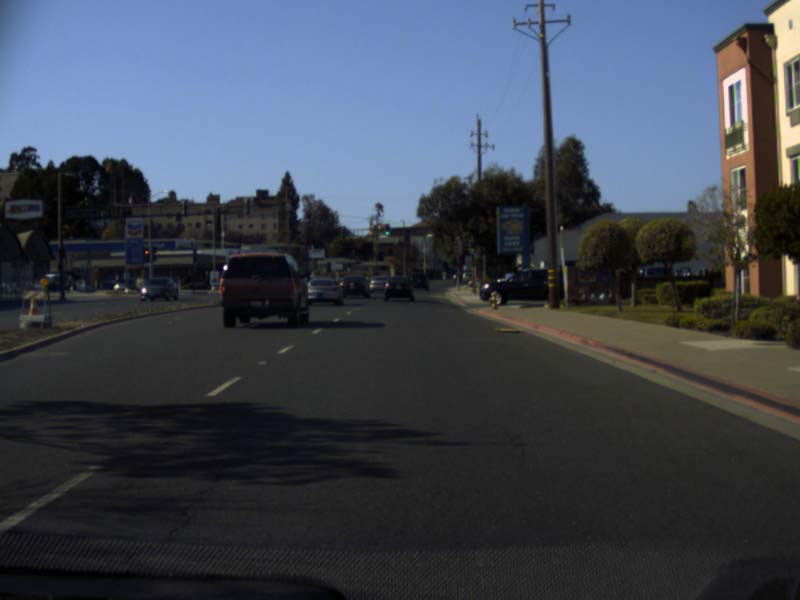Green: (384, 224, 390, 236)
Red: (143, 248, 149, 262)
